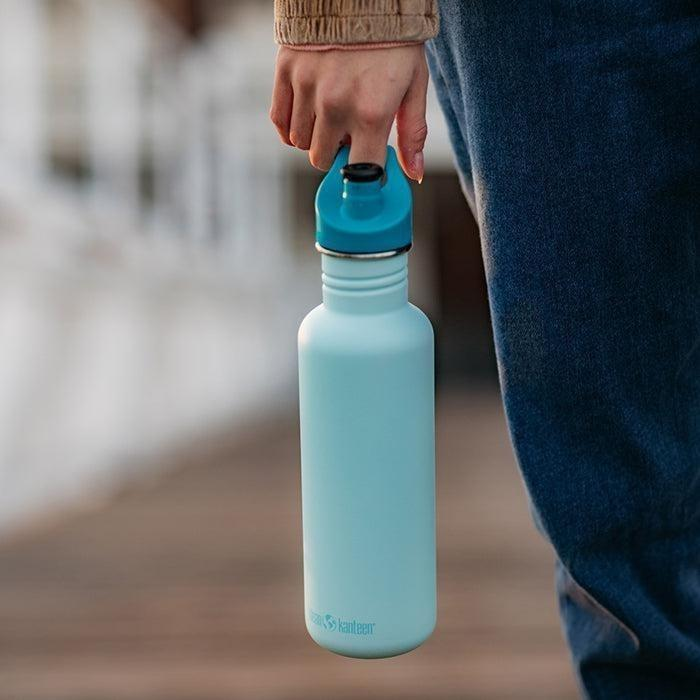gym bottle: (294, 160, 441, 660)
